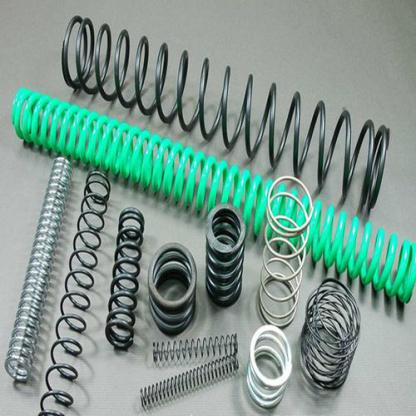FOD: (10, 83, 415, 305), (55, 10, 394, 212), (37, 167, 114, 415), (5, 151, 71, 392), (255, 172, 315, 328), (298, 274, 366, 394), (104, 204, 148, 351), (135, 352, 242, 410), (144, 240, 199, 338), (203, 201, 247, 312), (242, 321, 295, 412), (148, 330, 241, 366)
